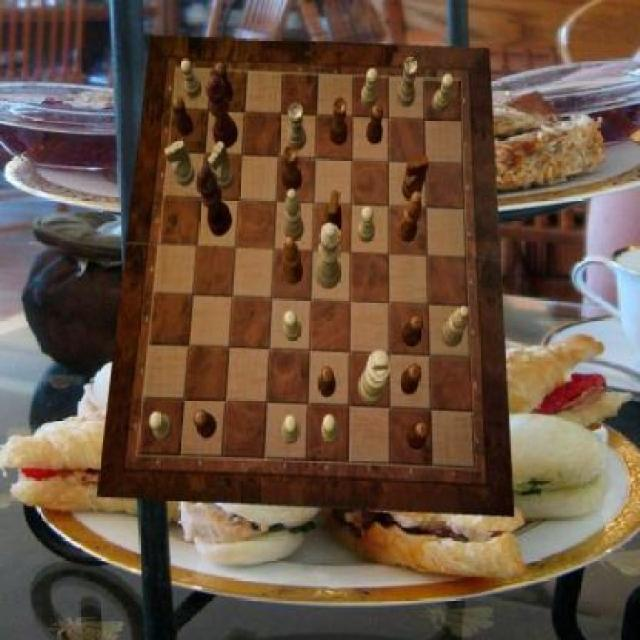bishop: (398, 191, 422, 243), (283, 237, 304, 285)
black-bishop: (196, 165, 232, 237)
black-king: (402, 155, 428, 201), (323, 191, 343, 237)
black-knight: (173, 97, 194, 137), (214, 63, 233, 103), (401, 317, 424, 349), (400, 364, 422, 396), (366, 104, 383, 144), (406, 423, 429, 451), (194, 411, 217, 438), (319, 368, 336, 398)
black-pawn: (206, 76, 239, 150)
black-queen: (283, 146, 303, 192), (331, 99, 348, 146)
black-rook: (442, 306, 469, 346), (284, 189, 304, 242)
white-bishop: (358, 350, 392, 406)
white-king: (164, 140, 194, 188), (209, 142, 234, 190)
white-knight: (180, 60, 202, 100), (434, 74, 454, 112), (360, 69, 378, 108), (358, 206, 376, 242), (151, 412, 174, 440), (322, 414, 341, 443), (285, 310, 302, 342), (282, 416, 299, 444)
white-pawn: (316, 223, 342, 289)
white-queen: (397, 57, 418, 106), (288, 105, 308, 152)
